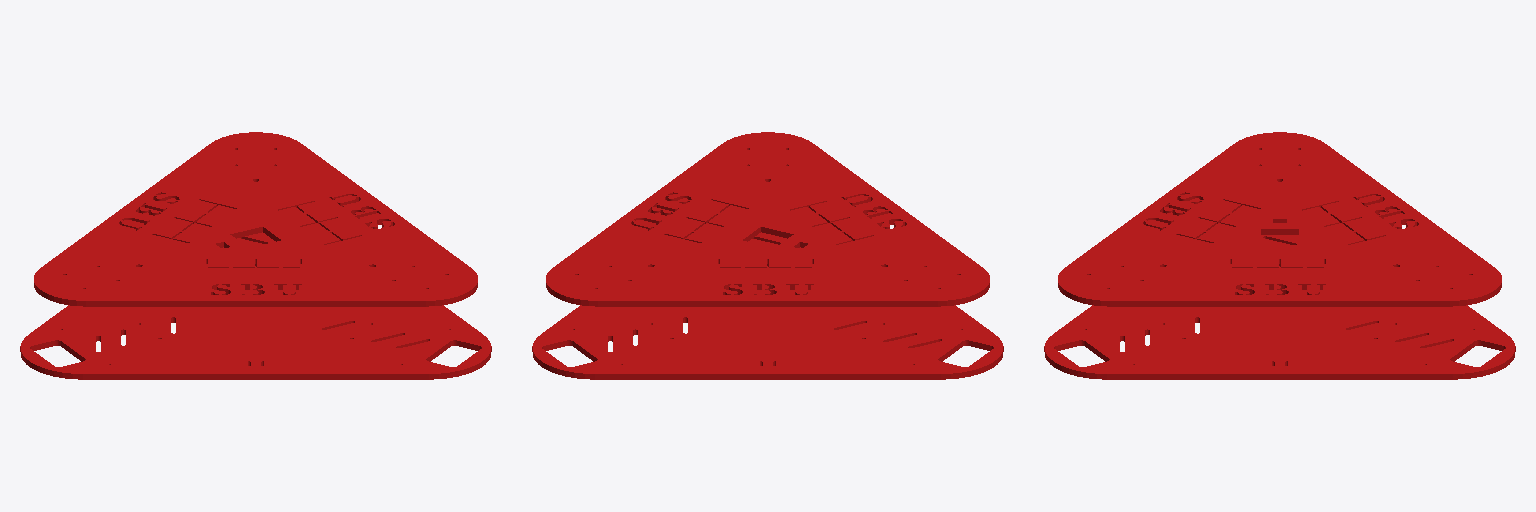
URDF robot description (my_robot):
<?xml version="1.0"?>
<robot name="my_robot">

<material name="black">
    <color rgba="0.0 0.0 0.0 1.0"/>
  </material>
  <material name="blue">
    <color rgba="0.203125 0.23828125 0.28515625 1.0"/>
  </material>
  <material name="green">
    <color rgba="0.0 0.8 0.0 1.0"/>
  </material>
  <material name="grey">
    <color rgba="0.2 0.2 0.2 1.0"/>
  </material>
  <material name="orange">
    <color rgba="1.0 0.423529411765 0.0392156862745 1.0"/>
  </material>
  <material name="brown">
    <color rgba="0.870588235294 0.811764705882 0.764705882353 1.0"/>
  </material>
  <material name="red">
    <color rgba="0.80078125 0.12890625 0.1328125 1.0"/>
  </material>
  <material name="white">
    <color rgba="1.0 1.0 1.0 1.0"/>
  </material>
  
    <gazebo reference="link_chassis">
    <material>Gazebo/Orange</material>
  </gazebo>
  <gazebo reference="link_left_wheel">
    <material>Gazebo/Blue</material>
  </gazebo>
  <gazebo reference="link_right_wheel">
    <material>Gazebo/Blue</material>
  </gazebo>
  
  

  
  <link name="base_link">
      <pose>0 0 0.1 0 0 0</pose>
    <inertial>
      <mass value="5"/>
      <origin rpy="0 0 0" xyz="0 0 0.1"/>
      <inertia ixx="0.0395416666667" ixy="0" ixz="0" iyy="0.106208333333" iyz="0" izz="0.106208333333"/>
    </inertial>
	<visual>
	  <origin rpy="0 0 0" xyz="0 0 0"/>
	<geometry>
        <mesh filename="package://per_robot_urdf/meshes/two_plate.dae"/>
      </geometry>
      <material name="red"/>
    </visual>
    <collision >
      <geometry>
        <mesh filename="package://per_robot_urdf/meshes/two_plate.dae"/>
      </geometry>
    </collision>

  </link>
  
  

        
  

      
      
      
            
     
  
 <!--    <joint type="continuous" name="right_wheel_hinge">
      <origin xyz="1.10000 1.9 -0.3" rpy="0 1.570700 1.0472"/>
      <axis rpy="0 1.570700 1.0472" xyz="1.10000 1.9 -0.3"/>
       <child link="right_wheel"/>
       <parent link="base_link"/>
       <limit effort="10000" velocity="1000"/>
       <joint_properties damping="1.0" friction="1.0"/>
   </joint>

  -->

      
      
      
      
      
      
</robot>

--- Facts derived from the render (not from the file) ---
Views: 3 orthographic renders of the robot side by side, from view 1: azimuth 30°, elevation 25°; view 2: azimuth 150°, elevation 25°; view 3: azimuth 270°, elevation 25°.
Robot: my_robot — 1 links, 0 joints (none); root link base_link; default pose: all joints at 0.
Visible links, largest first — view 1: base_link; view 2: base_link; view 3: base_link.
Boxes of the visible links, left/top/right/bottom form: base_link: left=20, top=132, right=491, bottom=379; base_link: left=532, top=132, right=1003, bottom=379; base_link: left=1044, top=132, right=1515, bottom=379.
Size in the robot's own frame: 4.07 by 4.52 by 0.78 metres.
Meshes: 1 distinct files referenced, 1 mesh visuals loaded (1 Collada DAE).